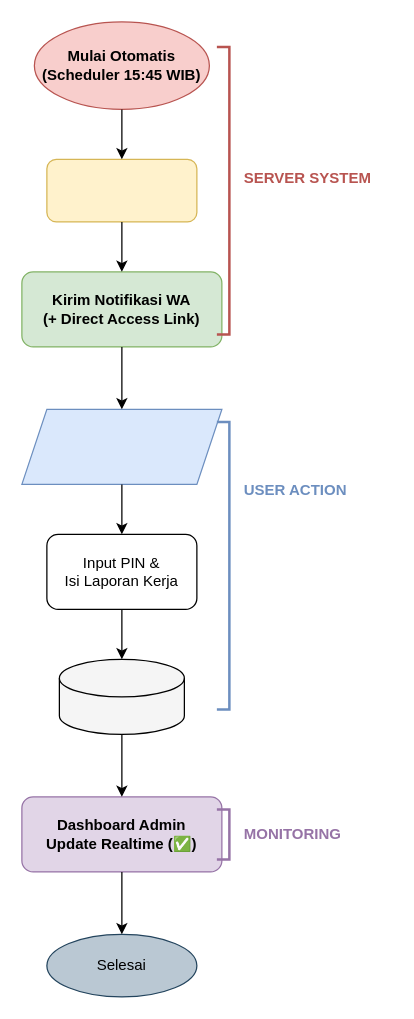
Image size: 414x1019. Some labels were removed from this diagram. The shapes that lost their labels are listed below. From the top down, each one's centre as x and y in pixels, then its label:
At [121,190]: "System Cek: Siapa belum lapor?".
At [121,446]: "Karyawan Klik Link Personal".
At [121,696]: "Simpan ke Database".
